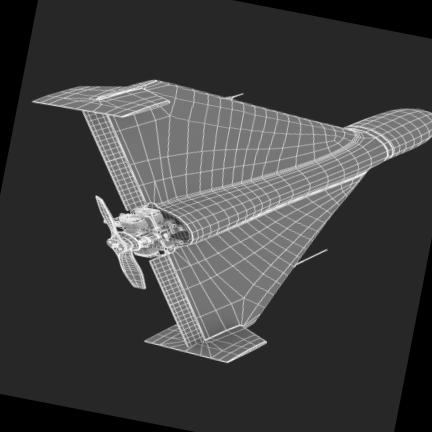Shahed: (35, 80, 431, 361)
